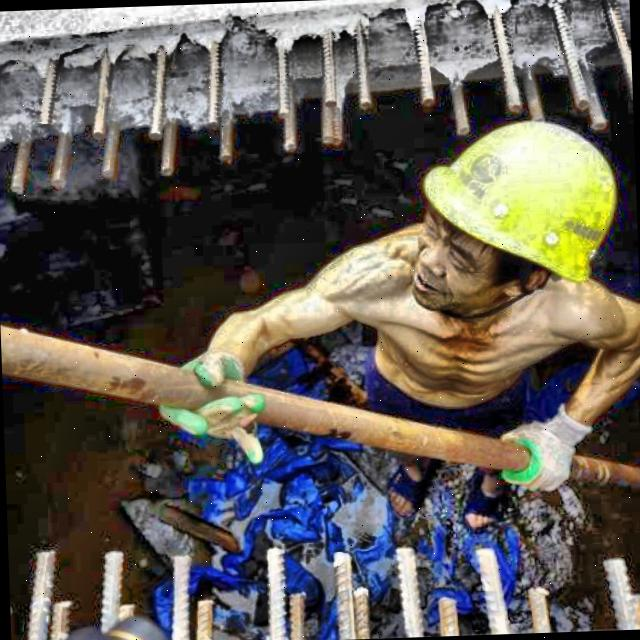helmet: (398, 98, 639, 332)
